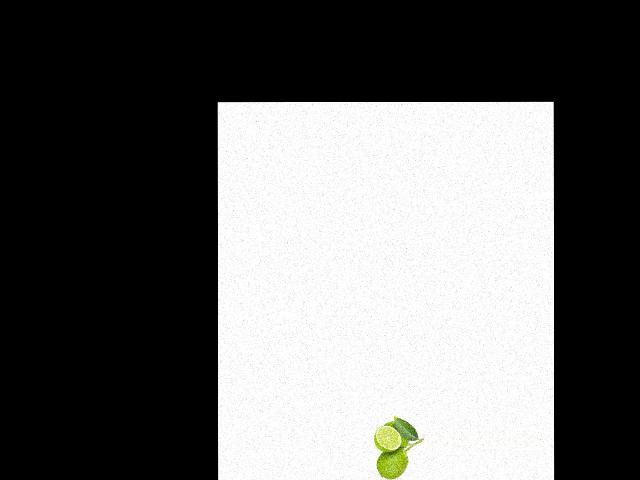lemon: (382, 419, 412, 447)
